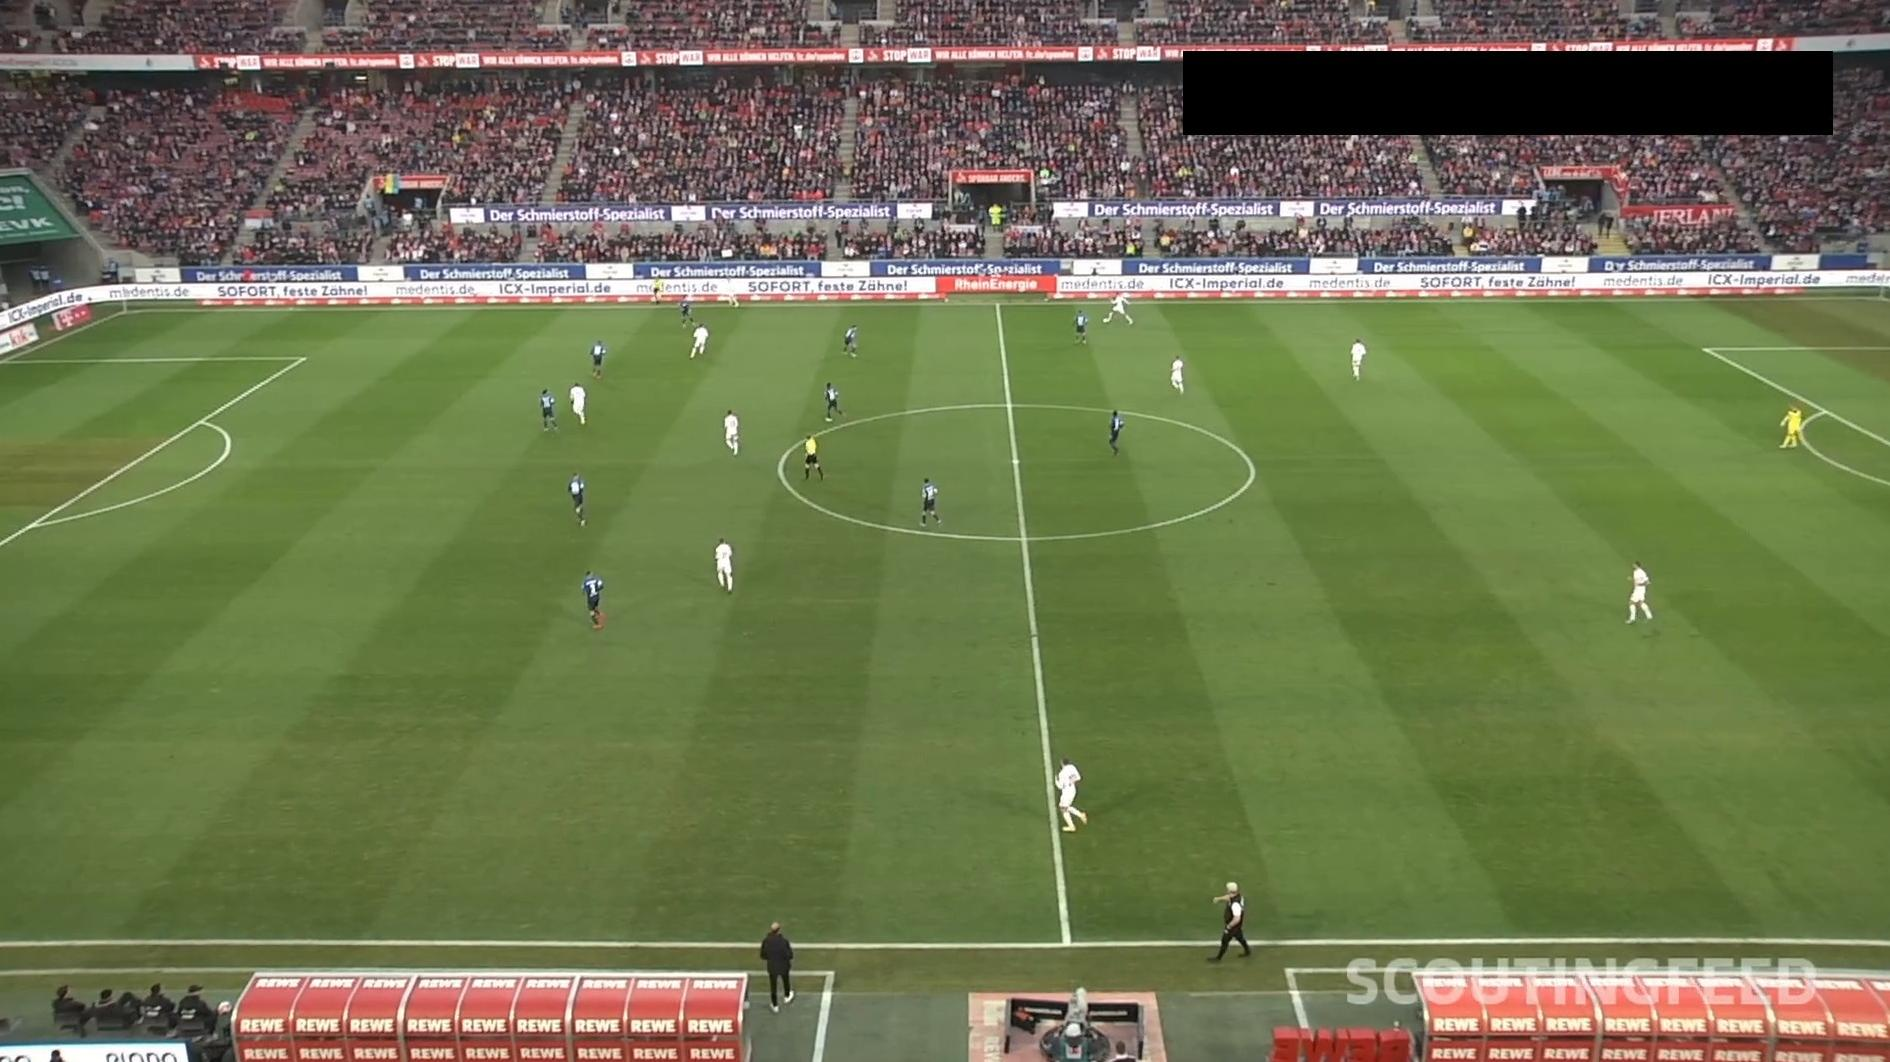ball: (1101, 317, 1110, 325)
